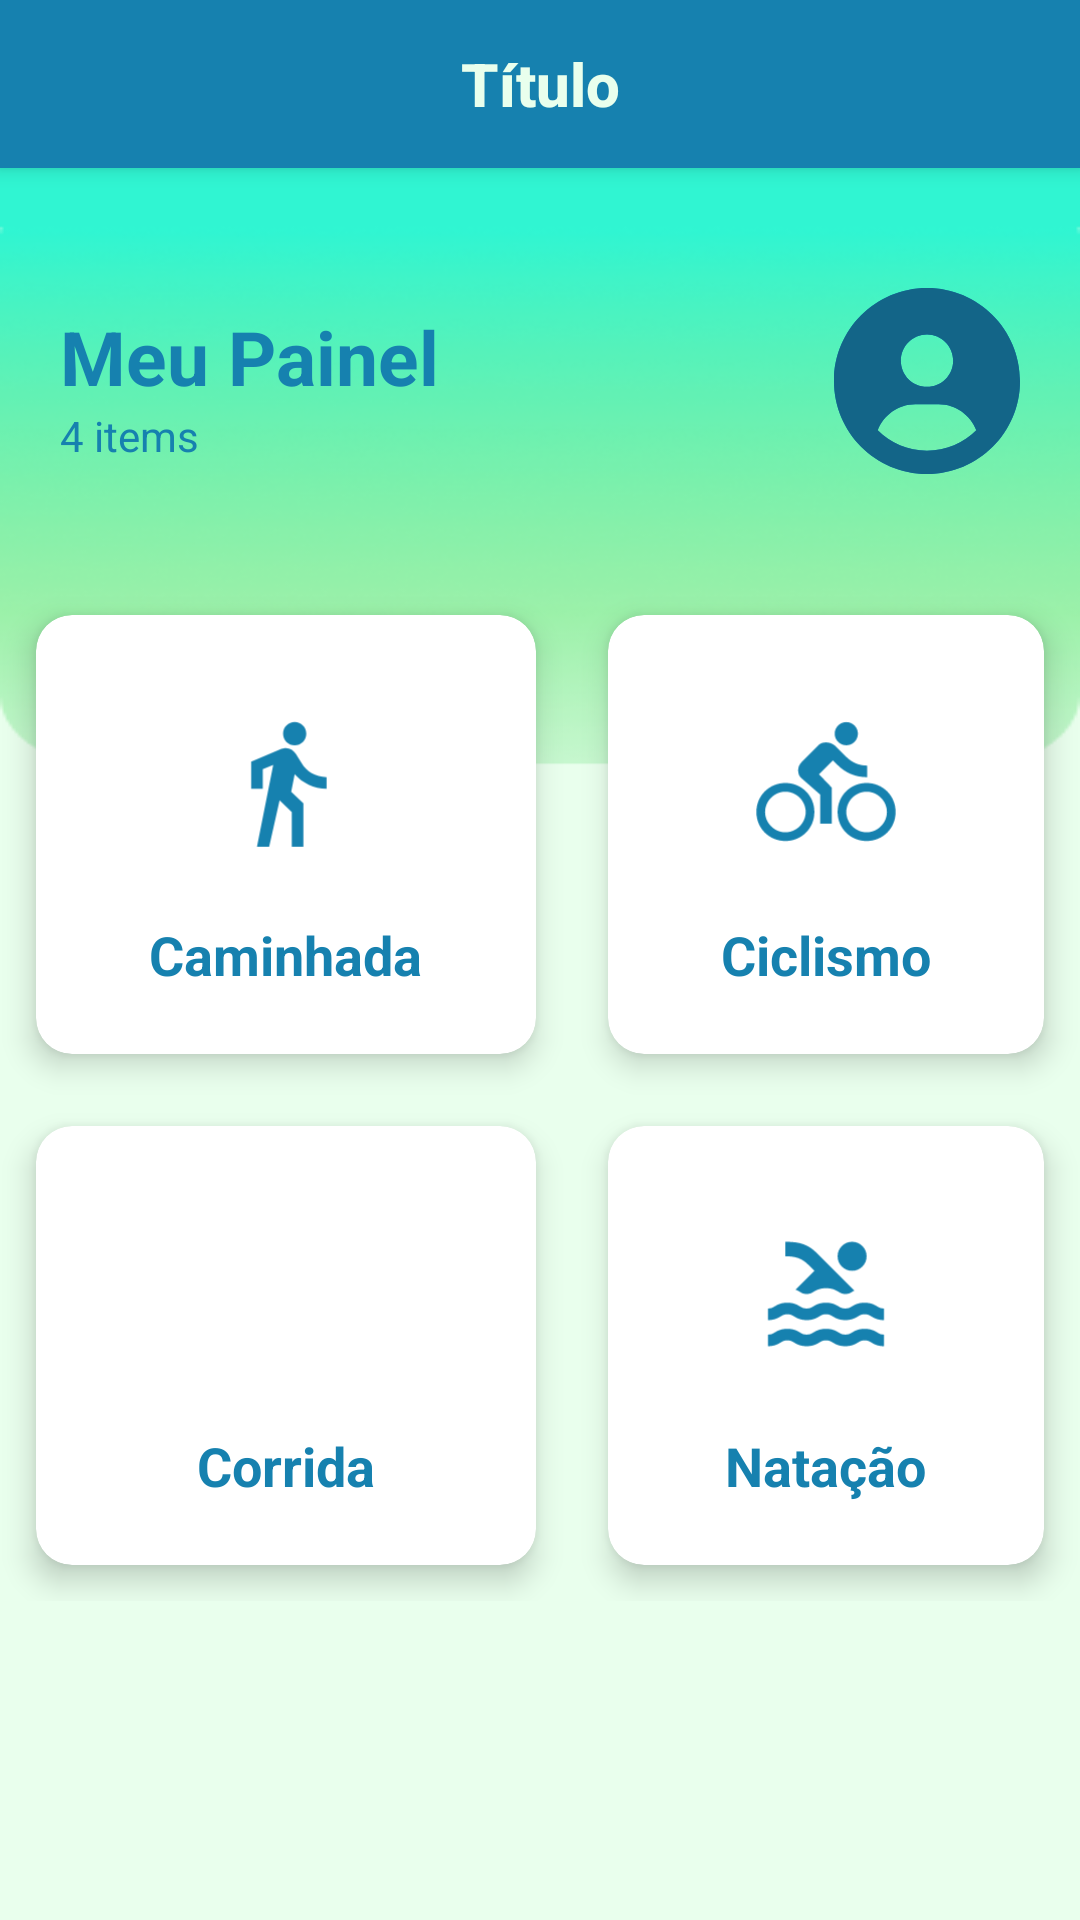

Point at icon controls on the screen. Image size 1080 x 1920, points as (x=x, y=y).
natacao: (x=826, y=1294)
profile: (x=927, y=381)
